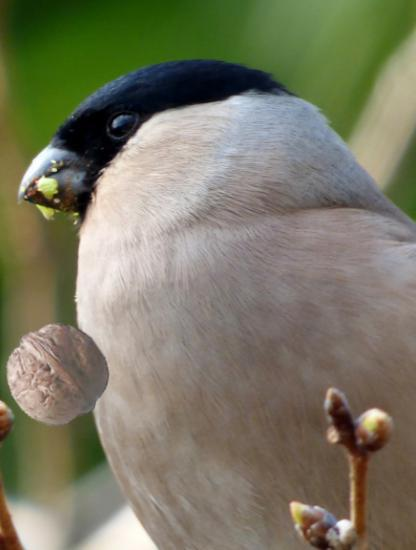Walnut: (5, 322, 109, 426)
